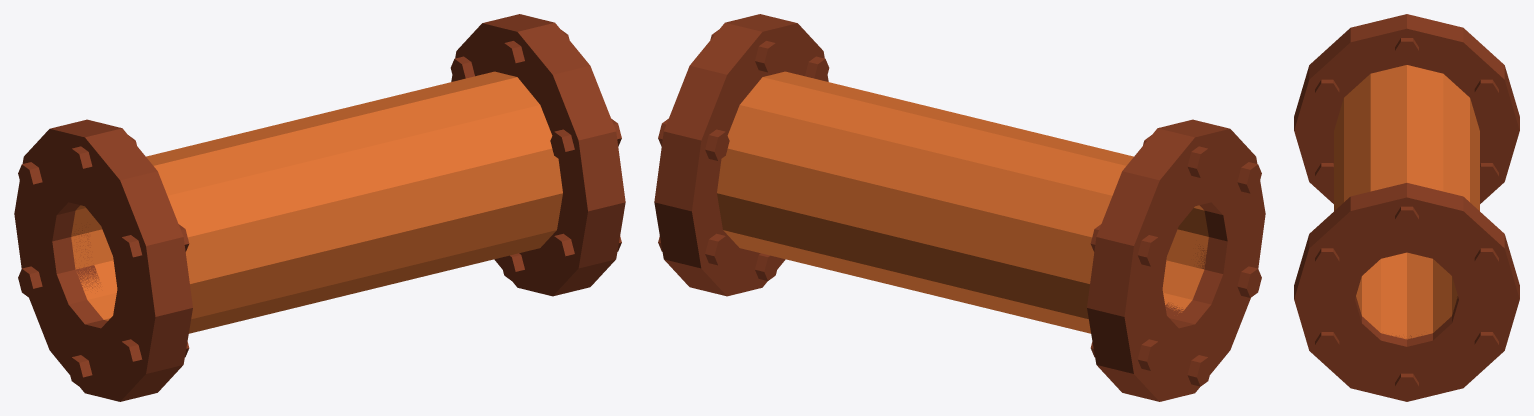
The model's file is item_pipe_rusty.fbx.
The picture shows the model from 3 angles, left to right: view 1: azimuth 30°, elevation 25°; view 2: azimuth 150°, elevation 25°; view 3: azimuth 270°, elevation 25°; orthographic projection. The views are drawn at different scales.
Visible parts, largest first — view 1: item_pipe_rusty; view 2: item_pipe_rusty; view 3: item_pipe_rusty.
Boxes of the visible parts, x1,y1,x2,y2 form: item_pipe_rusty: [14, 14, 625, 401]; item_pipe_rusty: [654, 14, 1265, 401]; item_pipe_rusty: [1294, 14, 1519, 401].
Bounding box in the file's own units: 2.6 × 1.3 × 1.3.
